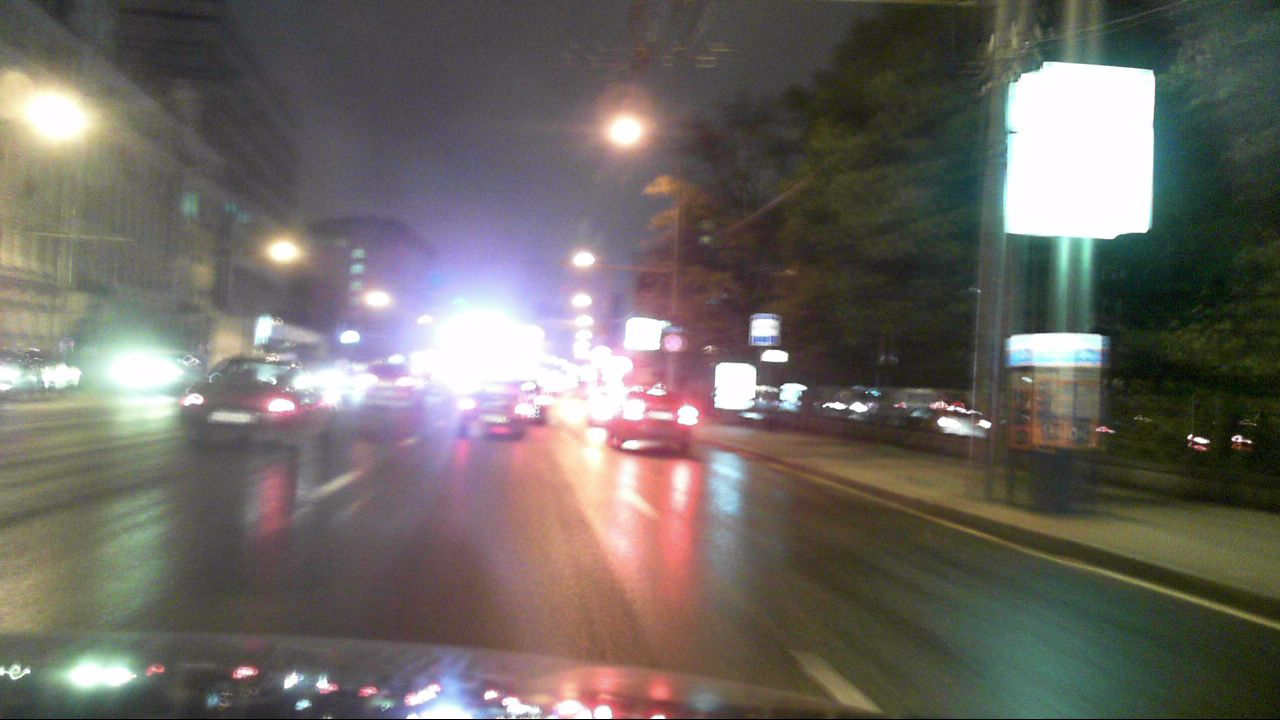No Parking: (663, 333, 683, 355)
